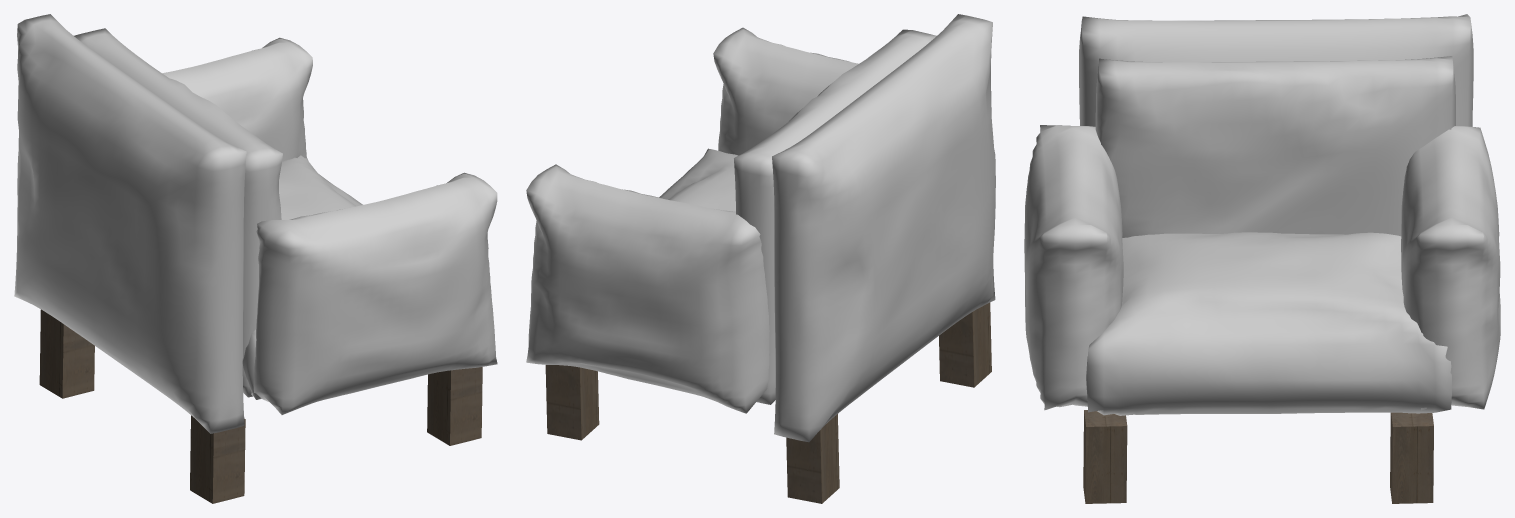
File: SofaPequeño.fbx
The picture shows the model from 3 angles, left to right: view 1: azimuth 30°, elevation 25°; view 2: azimuth 150°, elevation 25°; view 3: azimuth 270°, elevation 25°; orthographic projection. The views are drawn at different scales.
Visible parts, largest first — view 1: Cubo.002, Cubo.006, Cubo.005, Cubo.004, Cubo.008, Cubo.007, Cubo.010, Cubo.003; view 2: Cubo.002, Cubo.004, Cubo.006, Cubo.005, Cubo.009, Cubo.010, Cubo.008, Cubo.003; view 3: Cubo.003, Cubo.005, Cubo.006, Cubo.004, Cubo.002, Cubo.009, Cubo.007.
Part boxes in pixels (x1=…): Cubo.002: x1=14, y1=14, x2=246, y2=433; Cubo.006: x1=251, y1=172, x2=497, y2=414; Cubo.005: x1=74, y1=28, x2=282, y2=397; Cubo.004: x1=162, y1=37, x2=312, y2=161; Cubo.008: x1=190, y1=415, x2=245, y2=503; Cubo.007: x1=427, y1=367, x2=482, y2=445; Cubo.010: x1=39, y1=309, x2=94, y2=398; Cubo.003: x1=242, y1=155, x2=362, y2=399; Cubo.002: x1=772, y1=14, x2=995, y2=442; Cubo.004: x1=526, y1=164, x2=769, y2=413; Cubo.006: x1=713, y1=27, x2=858, y2=155; Cubo.005: x1=734, y1=29, x2=936, y2=404; Cubo.009: x1=545, y1=365, x2=599, y2=440; Cubo.010: x1=786, y1=414, x2=839, y2=503; Cubo.008: x1=939, y1=302, x2=991, y2=387; Cubo.003: x1=659, y1=148, x2=738, y2=211; Cubo.003: x1=1086, y1=232, x2=1451, y2=415; Cubo.005: x1=1095, y1=56, x2=1455, y2=237; Cubo.006: x1=1024, y1=125, x2=1123, y2=410; Cubo.004: x1=1401, y1=126, x2=1500, y2=410; Cubo.002: x1=1079, y1=14, x2=1473, y2=126; Cubo.009: x1=1390, y1=412, x2=1433, y2=503; Cubo.007: x1=1083, y1=410, x2=1127, y2=503.
Bounding box in the file's own units: 73.52 × 80.39 × 95.92.
